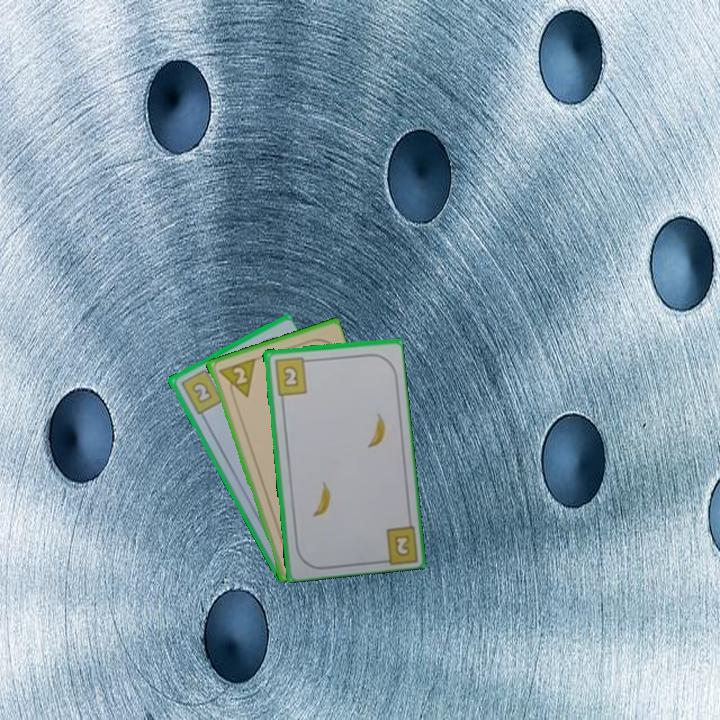2b: (177, 365, 225, 417), (271, 353, 313, 398), (391, 531, 413, 559)
2p: (214, 355, 257, 403)
